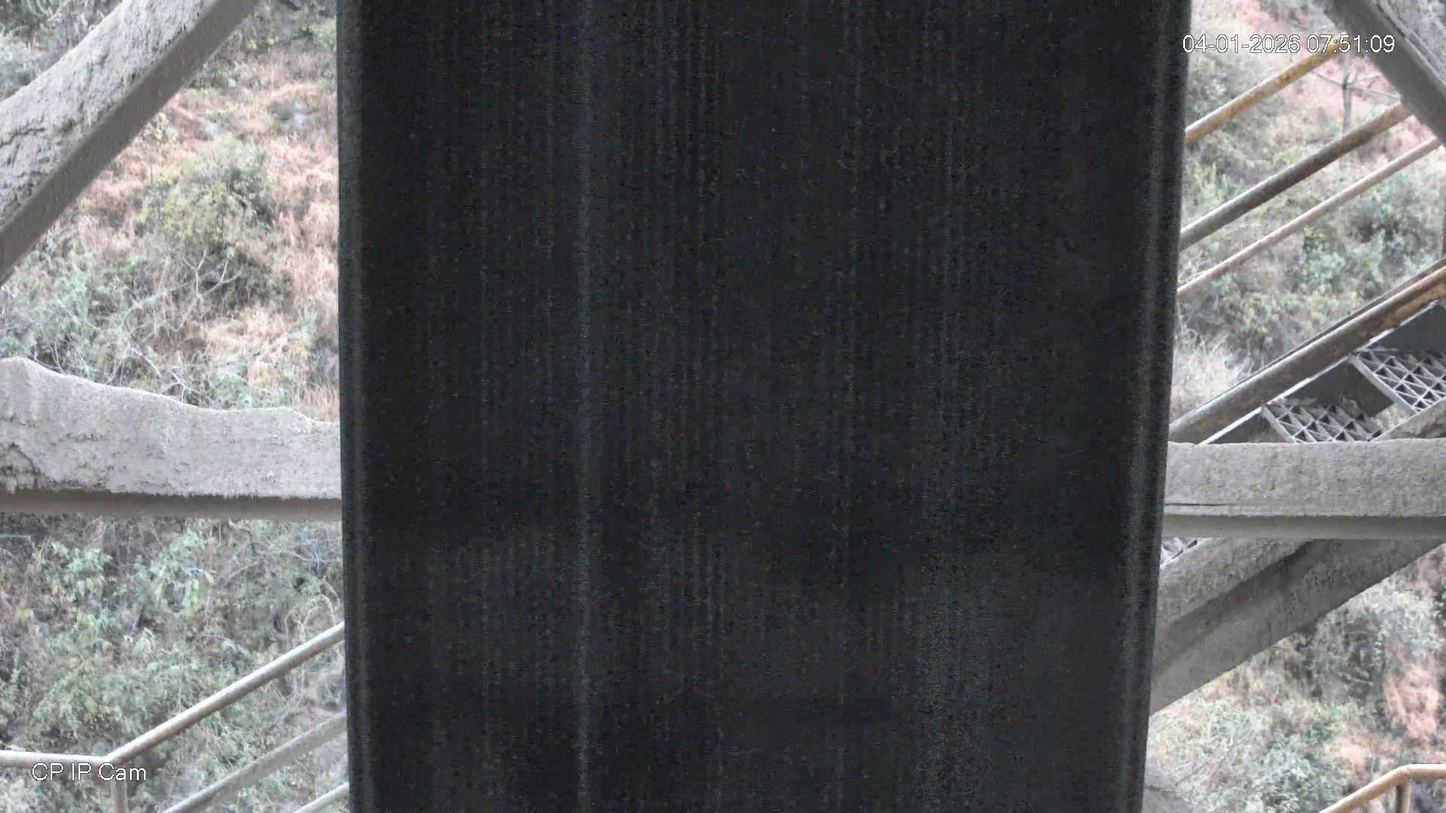belt_roi: (334, 0, 1196, 813)
